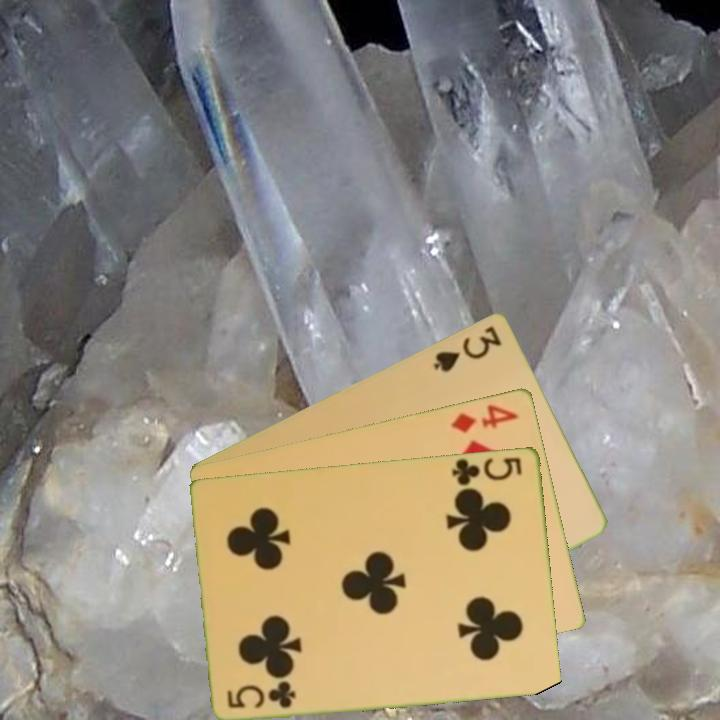3s: (430, 321, 505, 375)
4d: (448, 400, 521, 436)
5c: (448, 453, 525, 488), (223, 679, 299, 711)
